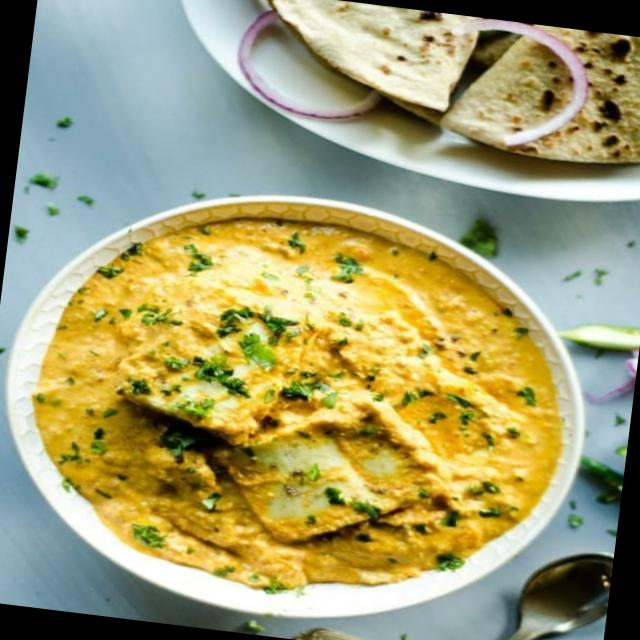ShahiPaneer: (15, 185, 592, 624)
